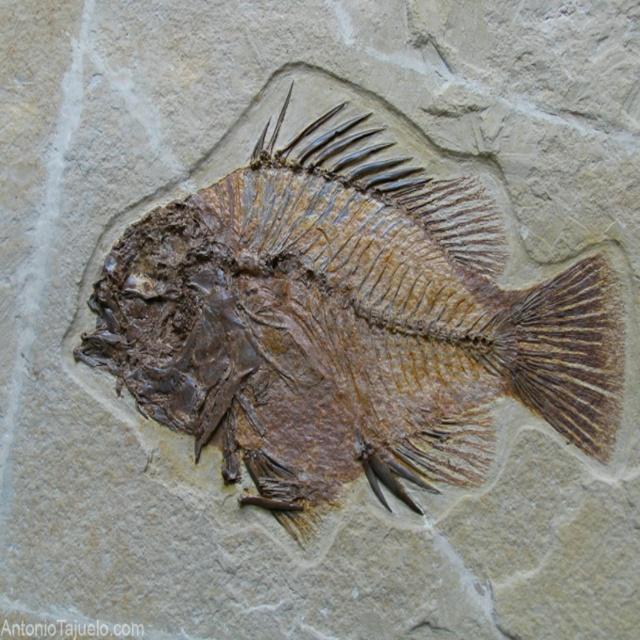Fish: (73, 79, 626, 551)
